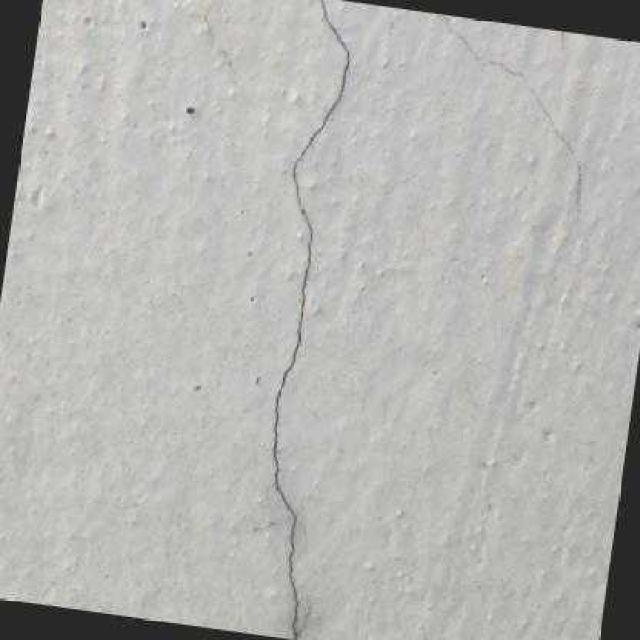D00: (272, 0, 351, 640)
